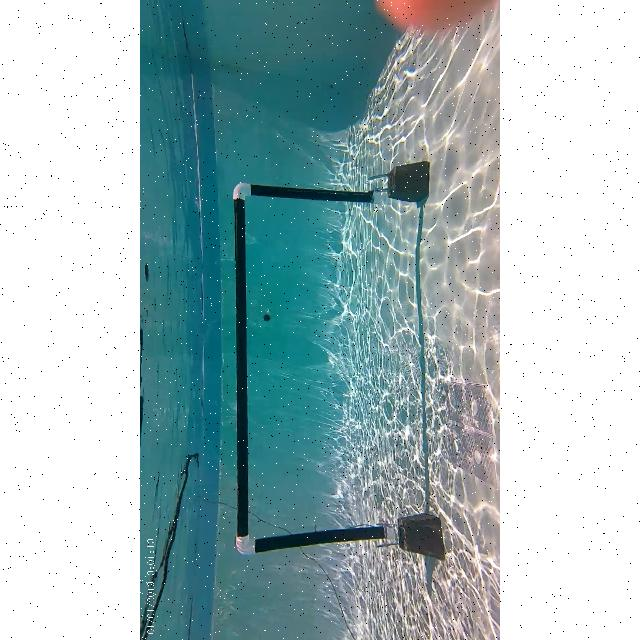prequal gate: (233, 184, 394, 556)
prequal gate leg l: (231, 524, 393, 558)
prequal gate leg r: (233, 180, 384, 208)
